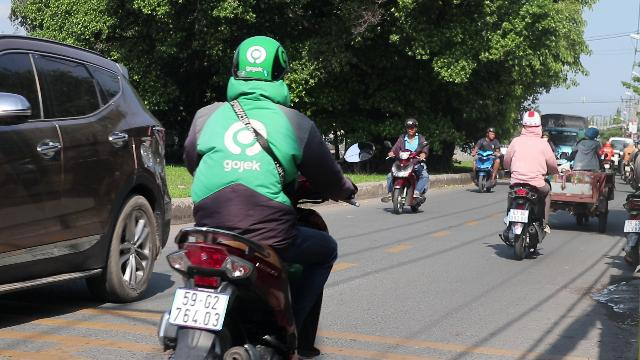helmet: (225, 36, 293, 104), (518, 110, 542, 134), (404, 117, 418, 134)
licenseplate: (168, 289, 228, 328), (508, 209, 528, 223), (623, 219, 639, 232)
motorcyclist: (153, 37, 354, 360), (496, 110, 558, 259), (384, 118, 431, 214)
